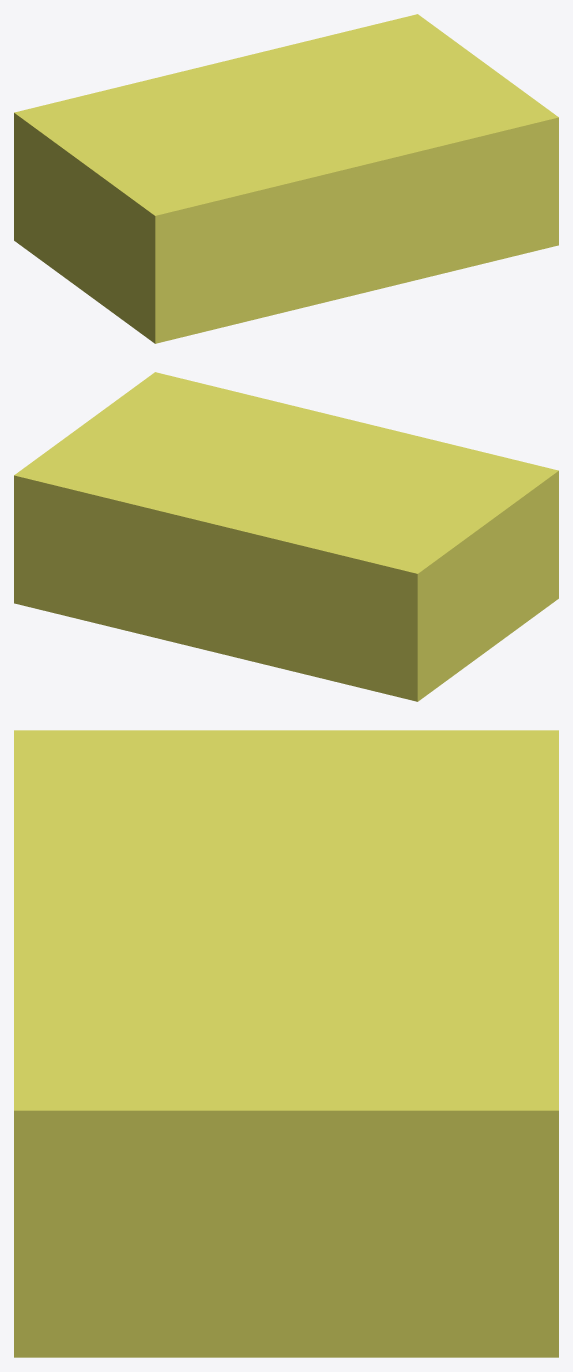
File: Butter.glb
The picture shows the model from 3 angles, top to bottom: view 1: azimuth 30°, elevation 25°; view 2: azimuth 150°, elevation 25°; view 3: azimuth 270°, elevation 25°; orthographic projection. The views are drawn at different scales.
Parts seen in each view (by area): view 1: Butter.001, Butter.003, Butter.004, Butter.008, Butter.007, Butter.002, Butter.006, Butter.005, Butter.010, Butter.009; view 2: Butter.001, Butter.003, Butter.004, Butter.008, Butter.007, Butter.002, Butter.006, Butter.005, Butter.009, Butter.010; view 3: Butter.010, Butter.001, Butter.002, Butter.003, Butter.004, Butter.005, Butter.006, Butter.007, Butter.008, Butter.009.
Boxes of the visible parts, bbox=[...] form: Butter.001: bbox=[14, 102, 195, 343]; Butter.003: bbox=[96, 83, 277, 323]; Butter.004: bbox=[136, 73, 318, 313]; Butter.008: bbox=[300, 33, 481, 274]; Butter.007: bbox=[259, 43, 440, 283]; Butter.002: bbox=[55, 92, 236, 333]; Butter.006: bbox=[218, 53, 399, 293]; Butter.005: bbox=[177, 63, 358, 303]; Butter.010: bbox=[380, 14, 558, 255]; Butter.009: bbox=[340, 23, 521, 264]; Butter.001: bbox=[377, 460, 558, 701]; Butter.003: bbox=[295, 441, 476, 681]; Butter.004: bbox=[254, 431, 436, 671]; Butter.008: bbox=[91, 391, 272, 632]; Butter.007: bbox=[132, 401, 313, 641]; Butter.002: bbox=[336, 450, 517, 691]; Butter.006: bbox=[173, 411, 354, 651]; Butter.005: bbox=[214, 421, 395, 661]; Butter.009: bbox=[51, 381, 232, 622]; Butter.010: bbox=[14, 372, 193, 612]; Butter.010: bbox=[14, 1072, 558, 1357]; Butter.001: bbox=[14, 730, 558, 768]; Butter.002: bbox=[14, 768, 558, 806]; Butter.003: bbox=[14, 807, 558, 845]; Butter.004: bbox=[14, 845, 558, 883]; Butter.005: bbox=[14, 884, 558, 922]; Butter.006: bbox=[14, 922, 558, 960]; Butter.007: bbox=[14, 960, 558, 998]; Butter.008: bbox=[14, 999, 558, 1037]; Butter.009: bbox=[14, 1037, 558, 1075].
Bounding box in the file's own units: 1.07 × 0.3252 × 0.6504.
